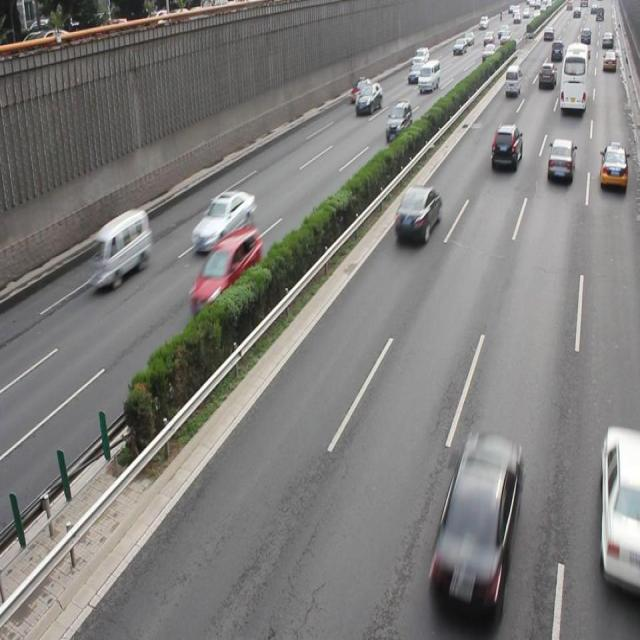car: (431, 432, 519, 607), (596, 424, 640, 592), (189, 225, 258, 315), (191, 188, 254, 252), (393, 184, 440, 243), (490, 124, 521, 170), (545, 136, 573, 184), (598, 144, 626, 189), (385, 101, 412, 141), (355, 82, 381, 114)
truck: (90, 208, 151, 284)
